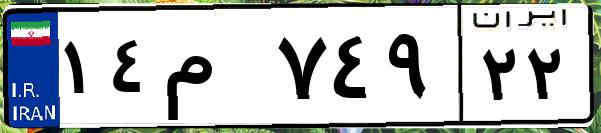1: (57, 26, 110, 100)
2: (475, 38, 525, 113), (525, 38, 570, 115)
4: (330, 28, 385, 110), (110, 28, 158, 98)
7: (270, 28, 330, 110)
9: (385, 28, 445, 110)
م: (158, 20, 270, 120)
